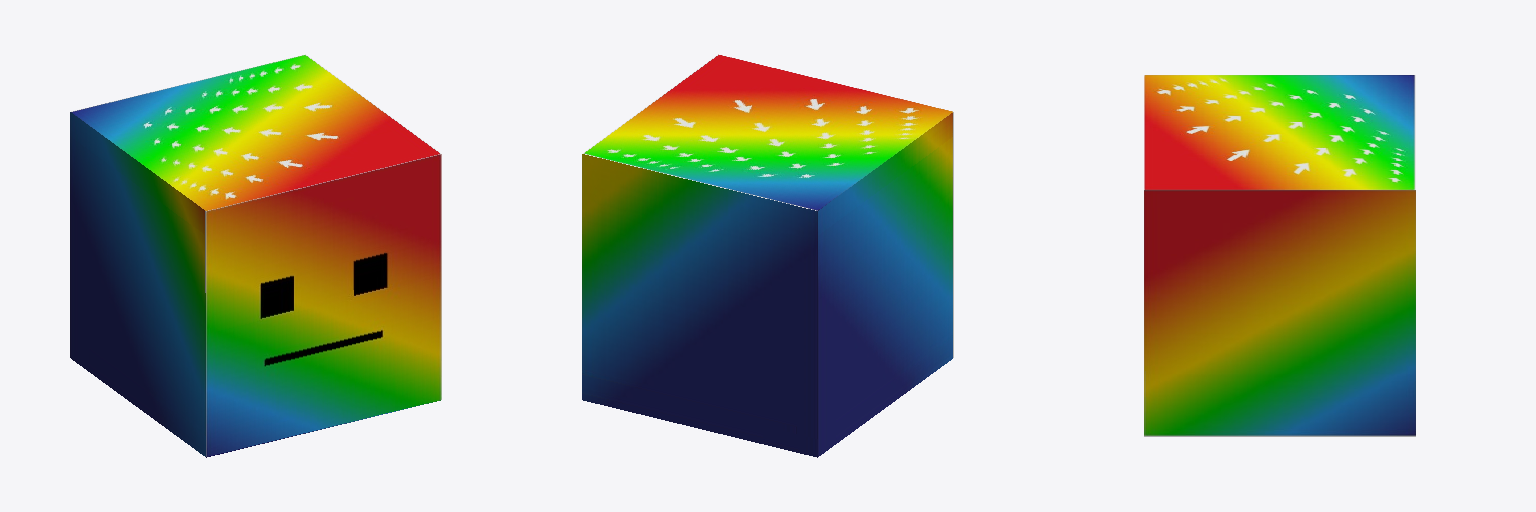
3 views of the same model, side by side, from view 1: azimuth 30°, elevation 25°; view 2: azimuth 150°, elevation 25°; view 3: azimuth 270°, elevation 25° (orthographic).
Parts seen in each view (by area): view 1: Cube; view 2: Cube; view 3: Cube.
Part boxes in pixels (bbox=[...]): Cube: bbox=[70, 54, 441, 457]; Cube: bbox=[582, 54, 953, 457]; Cube: bbox=[1144, 75, 1415, 436].
Bounding box in the file's own units: 2 × 2 × 2.
1 materials, 1 textured.